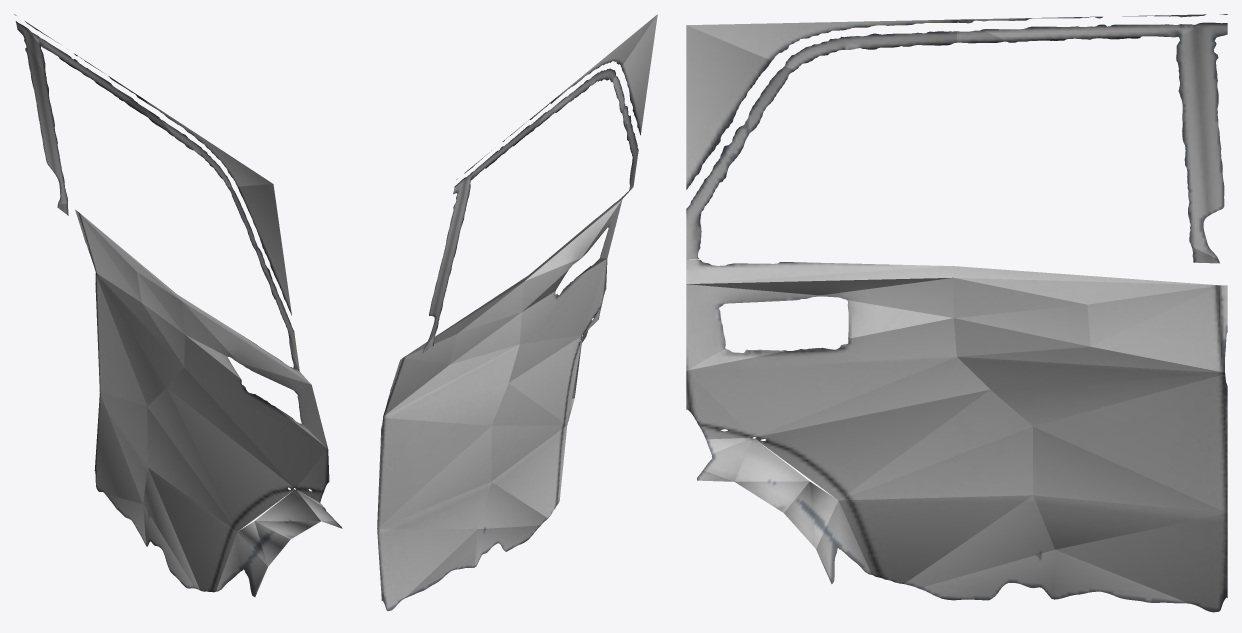
File: SM_AbandonedCar_Door_RR_Broken.fbx
3 views of the same model, side by side, from view 1: azimuth 30°, elevation 25°; view 2: azimuth 150°, elevation 25°; view 3: azimuth 270°, elevation 25° (orthographic). The views are drawn at different scales.
Visible parts, largest first — view 1: SM_AbandonedCar_Door_RR_Broken; view 2: SM_AbandonedCar_Door_RR_Broken; view 3: SM_AbandonedCar_Door_RR_Broken.
Part boxes in pixels (bbox=[...]): SM_AbandonedCar_Door_RR_Broken: bbox=[14, 14, 342, 596]; SM_AbandonedCar_Door_RR_Broken: bbox=[377, 14, 657, 611]; SM_AbandonedCar_Door_RR_Broken: bbox=[686, 14, 1227, 612].
Size of the model in its own units: 20.05 by 99.5 by 87.
